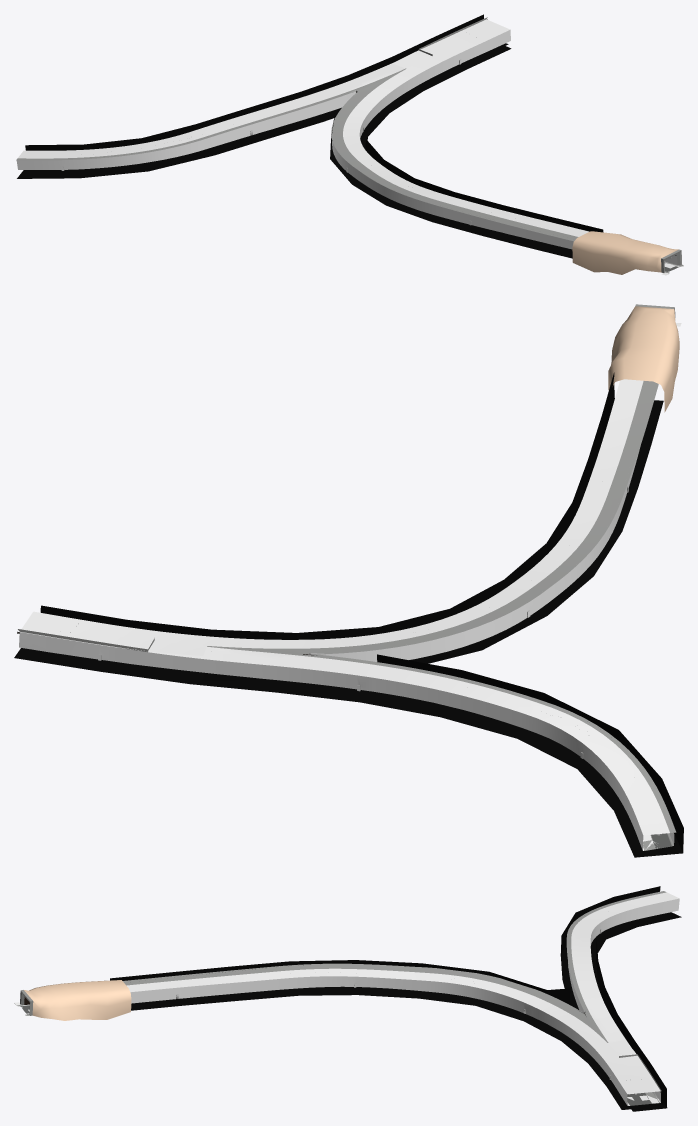
Rendered from tunnel_nw2b.dae.
The picture shows the model from 3 angles, top to bottom: view 1: azimuth 30°, elevation 25°; view 2: azimuth 150°, elevation 25°; view 3: azimuth 270°, elevation 25°; orthographic projection. The views are drawn at different scales.
Parts seen in each view (by area): view 1: tunnel_NW2b_a4000, tunnel_NW2b_a2000; view 2: tunnel_NW2b_a4000, tunnel_NW2b_a2000; view 3: tunnel_NW2b_a4000, tunnel_NW2b_a2000.
Boxes of the visible parts, bbox=[...] form: tunnel_NW2b_a4000: bbox=[16, 14, 683, 274]; tunnel_NW2b_a2000: bbox=[572, 231, 682, 274]; tunnel_NW2b_a4000: bbox=[14, 372, 683, 857]; tunnel_NW2b_a2000: bbox=[608, 304, 679, 412]; tunnel_NW2b_a4000: bbox=[14, 886, 681, 1111]; tunnel_NW2b_a2000: bbox=[20, 980, 131, 1020].
Bounding box in the file's own units: 276 × 335 × 41.67.
